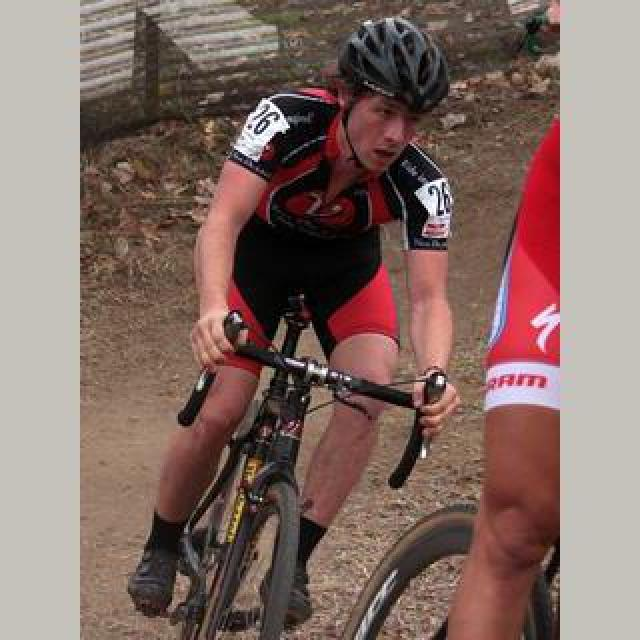MC-Bike: (166, 34, 454, 640)
Person: (137, 295, 459, 639)
